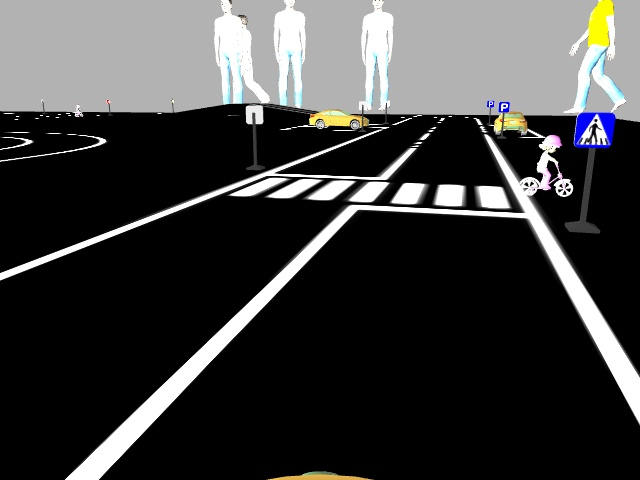Crosswalk: (575, 111, 615, 149)
Parking: (497, 99, 509, 112), (485, 98, 495, 108)
Pedestrian: (514, 134, 574, 198)
